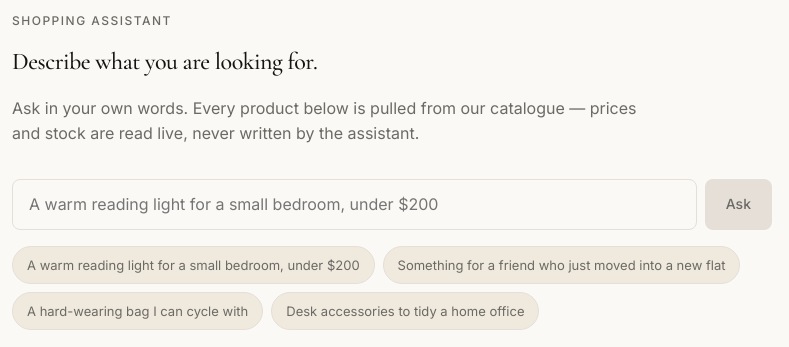
Test: AssistantPage › shows a thinking state while the request is in flight
The width and height of the screenshot is (789, 347).
Type "lamp" into the field named "looking for" at point(354, 204), box 12,179 -> 697,230
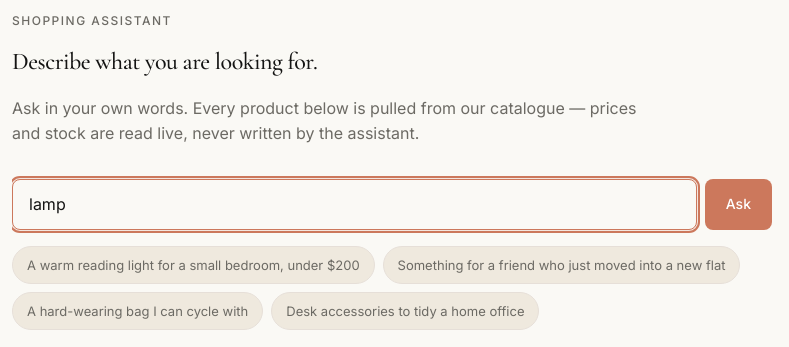
Click the button "Ask" at point(738, 204), box 705,179 -> 772,230
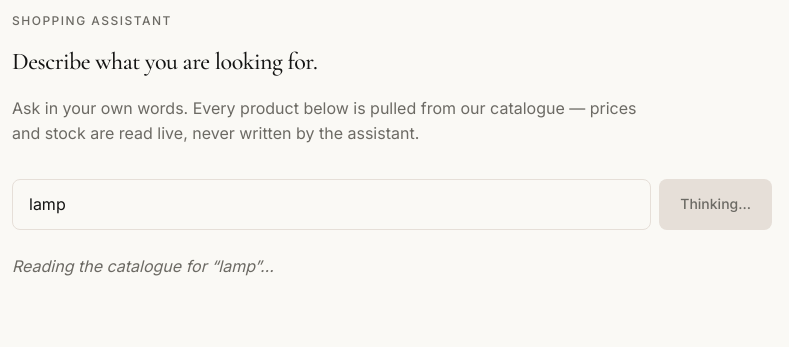
Now the message shows "Reading the catalogue", box 12,256 -> 218,276
